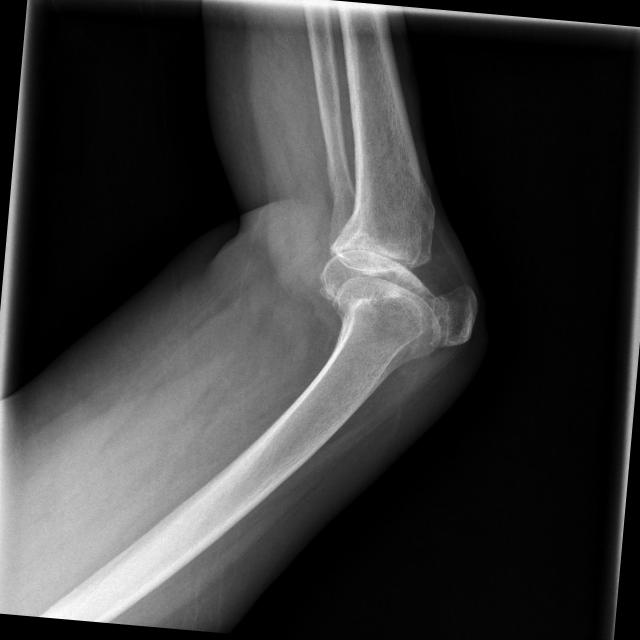Knee: (314, 204, 486, 362)
